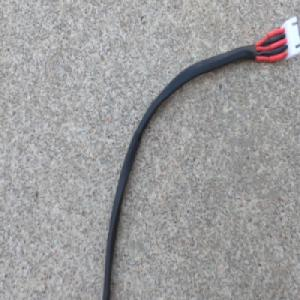Wire: (100, 13, 300, 300)
